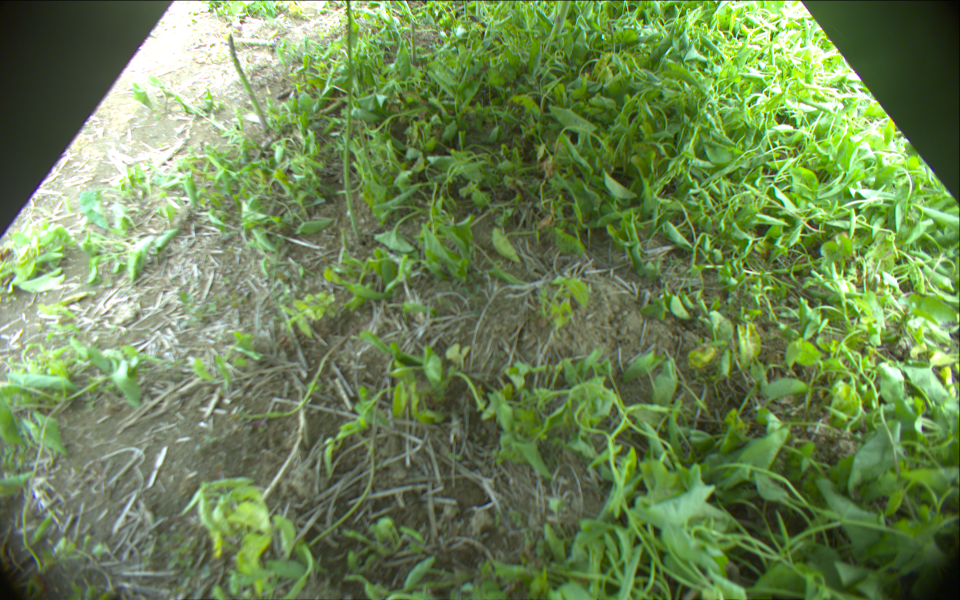aspa: (342, 1, 363, 243), (225, 35, 273, 135), (546, 1, 569, 48), (408, 20, 418, 66), (462, 1, 467, 24), (476, 1, 481, 19)
